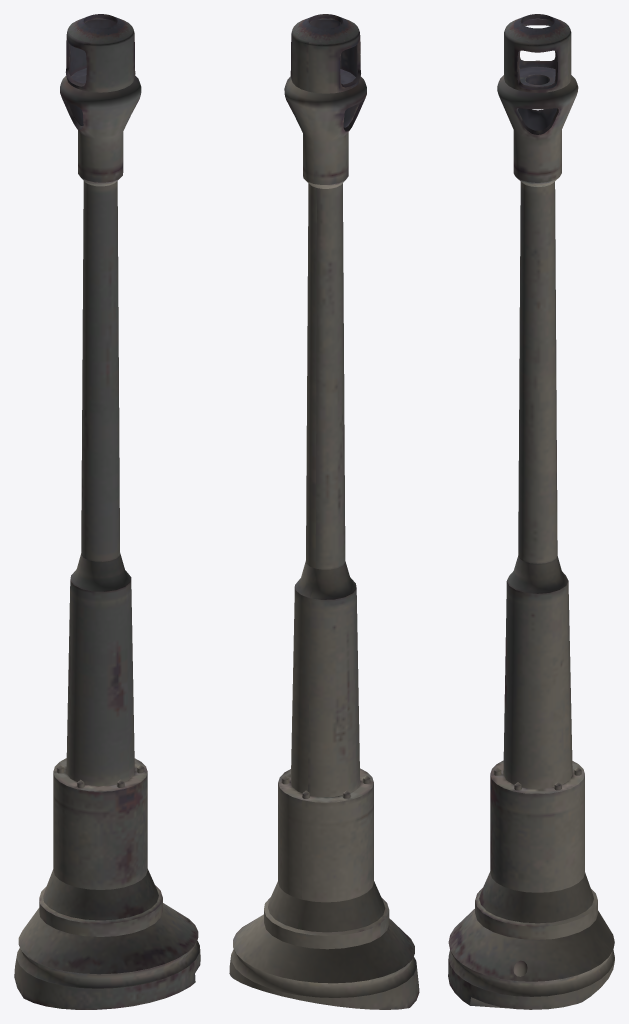
The model's file is Gun_04.glb.
3 views of the same model, side by side, from view 1: azimuth 30°, elevation 25°; view 2: azimuth 150°, elevation 25°; view 3: azimuth 270°, elevation 25° (orthographic).
Visible parts, largest first — view 1: set_0_group_0; view 2: set_0_group_0; view 3: set_0_group_0.
Part boxes in pixels (x1,y1,x2,y2): set_0_group_0: (14, 14, 200, 1009); set_0_group_0: (229, 14, 419, 1009); set_0_group_0: (448, 14, 614, 1009).
Bounding box in the file's own units: 0.7126 × 3.89 × 0.6135.
1 material, 1 textured.
